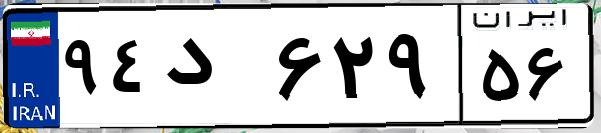2: (330, 28, 385, 110)
4: (110, 28, 158, 98)
5: (475, 38, 525, 113)
6: (270, 28, 330, 110), (525, 38, 570, 115)
9: (385, 28, 445, 110), (57, 26, 110, 100)
د: (158, 20, 270, 120)
